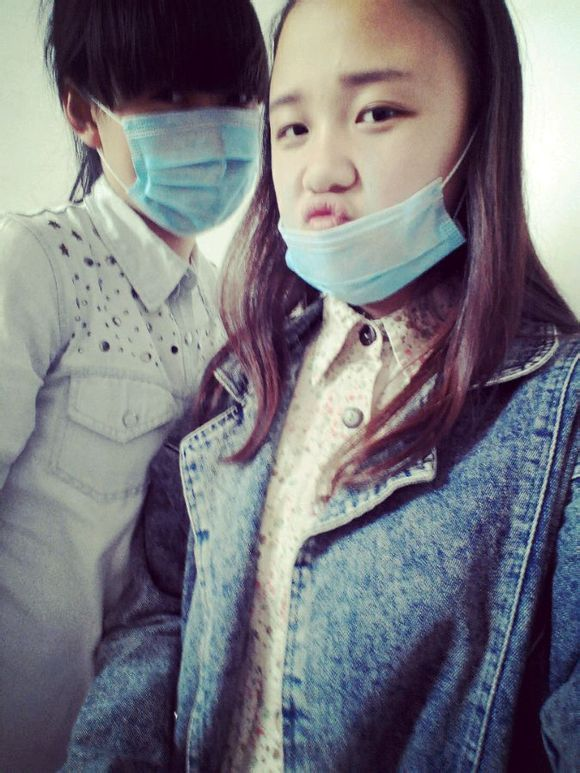face: (264, 1, 460, 295)
face_mask: (103, 17, 249, 233)
